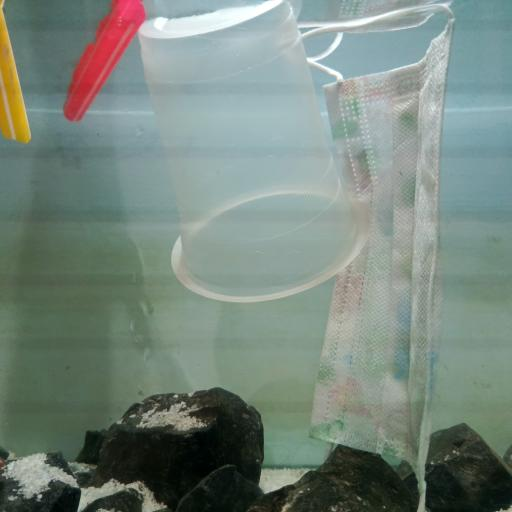mask: (295, 0, 462, 483)
plastic_cup: (139, 0, 371, 304)
plastic_straw: (65, 0, 149, 122), (0, 2, 32, 146)
